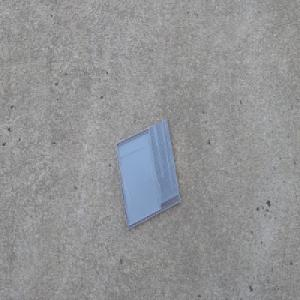PlasticPart: (114, 118, 181, 230)
